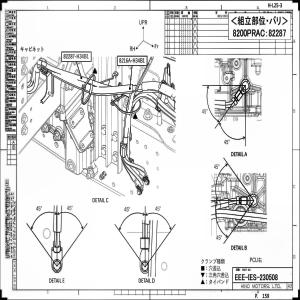PartNumber: (119, 57, 145, 64), (63, 53, 89, 59)
